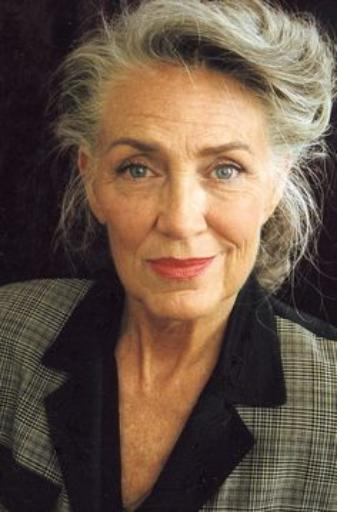left_eye: (204, 163, 248, 187)
left_lip_corner: (210, 251, 223, 269)
right_eye: (118, 162, 164, 183)
right_lip_corner: (142, 255, 156, 273)
